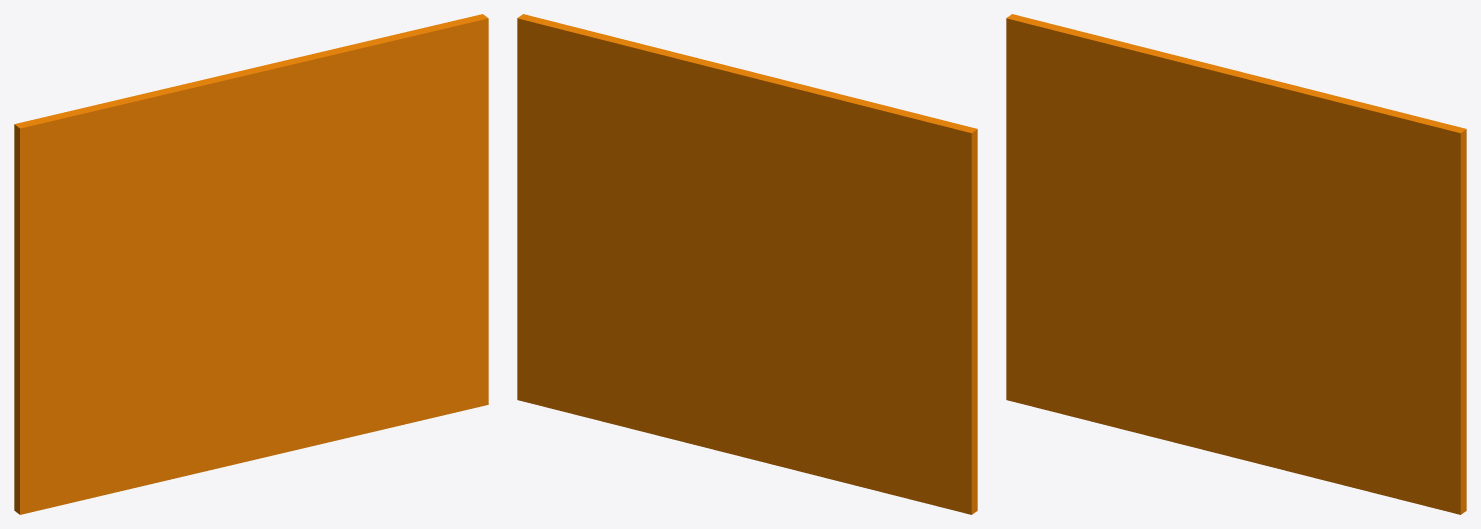
Rendered from wall.glb.
3 views of the same model, side by side, from view 1: azimuth 30°, elevation 25°; view 2: azimuth 150°, elevation 25°; view 3: azimuth 330°, elevation 25° (orthographic).
Visible parts, largest first — view 1: WALLLL; view 2: WALLLL; view 3: WALLLL.
Part boxes in pixels (x1=…): WALLLL: x1=14, y1=14, x2=488, y2=514; WALLLL: x1=517, y1=14, x2=977, y2=514; WALLLL: x1=1006, y1=14, x2=1466, y2=514.
Bounding box in the file's own units: 4.48 × 3.56 × 0.1708.
